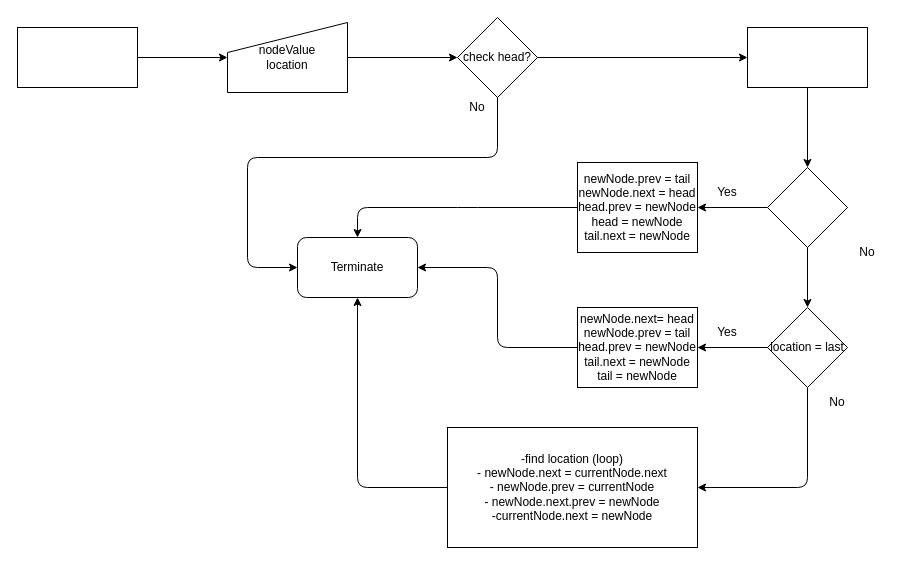
Some shapes in this 915 by 565 pixel diagram are drawn without their labels. Each missing label, with the centre of its shape:
"- create newNode - assign value" goes at (x=807, y=57).
"location = first" goes at (x=807, y=207).
"START" goes at (x=77, y=57).
